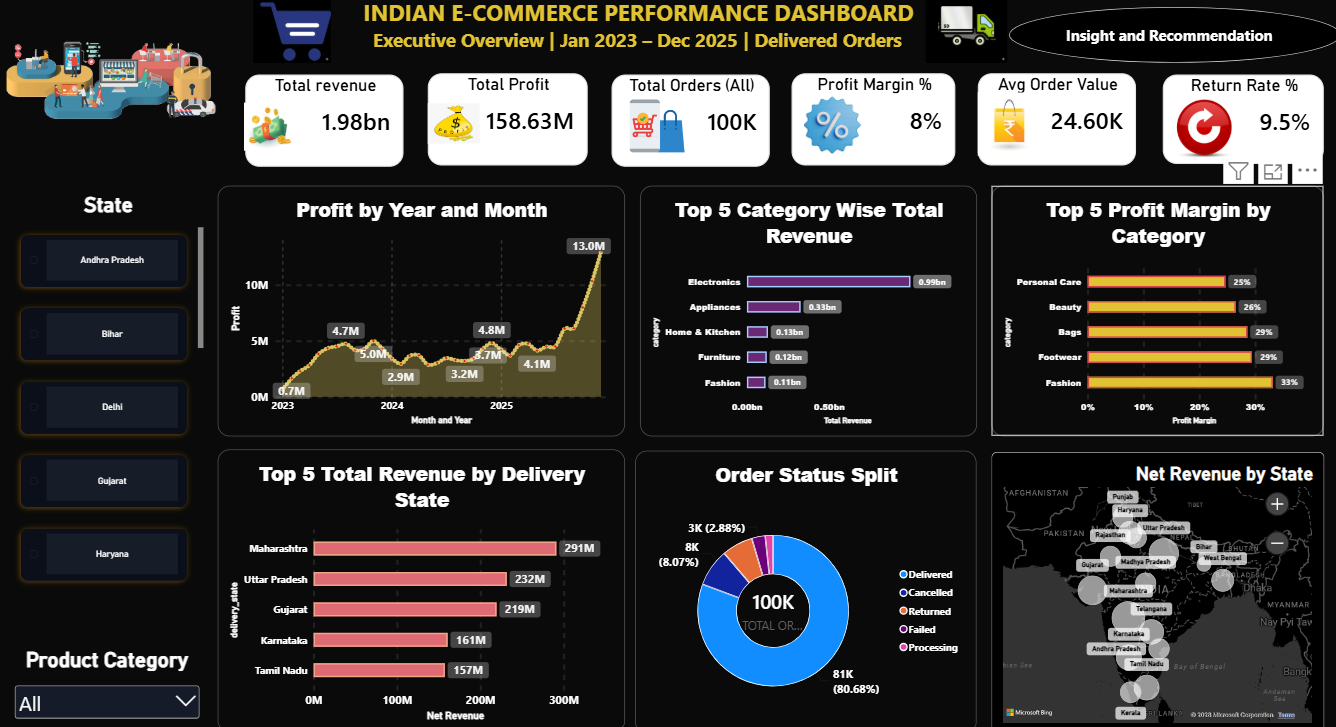

Layout of this report page (visuals, bound fields, positions):
{"tool":"powerbi","page":{"name":"Executive Overview","canvas":[1920,1080],"ordinal":0},"visuals":[{"type":"cardVisual","title":"Total revenue ","fields":{"Data":["order_items_cleaned.Net Revenue"]},"box":[352,111.1,226.4,131.7],"z":0},{"type":"cardVisual","title":"Total Profit","fields":{"Data":["order_items_cleaned.Total Profit Delivered"]},"box":[613.4,109.1,228.5,131.7],"z":1000},{"type":"cardVisual","title":"Total Orders (All)","fields":{"Data":["order_items_cleaned.order count"]},"box":[876.8,111.1,226.4,131.7],"z":2000},{"type":"cardVisual","title":"Profit Margin %","fields":{"Data":["order_items_cleaned.profit margin"]},"box":[1134.1,109.1,234.6,131.7],"z":3000},{"type":"cardVisual","title":"Avg Order Value","fields":{"Data":["order_items_cleaned.AOV"]},"box":[1399.7,109.1,226.4,131.7],"z":4000},{"type":"cardVisual","title":"Return Rate %","fields":{"Data":["returns_cleaned.return rate"]},"box":[1665.2,111.1,230.5,127.6],"z":5000},{"type":"advancedSlicerVisual","title":"State","fields":{"Values":["orders_cleaned.delivery_state"]},"box":[19.2,279.5,273.8,570.2],"z":7000},{"type":"slicer","title":"Product Category","fields":{"Values":["products_cleaned.category"]},"box":[18.1,930.2,273.8,125.6],"z":8000},{"type":"areaChart","title":"Profit by Year and Month","fields":{"Category":["orders_cleaned.order_date.Variation.Date Hierarchy.Year","orders_cleaned.order_date.Variation.Date Hierarchy.Month"],"Y":["order_items_cleaned.Total Profit Delivered"]},"box":[312.9,269.6,582.5,358.1],"z":9000},{"type":"clusteredBarChart","title":"Top 5 Category Wise Total Revenue","fields":{"Category":["products_cleaned.category"],"Y":["order_items_cleaned.Delivered Item Revenue"]},"box":[918,269.6,481.6,358.1],"z":10000},{"type":"clusteredBarChart","title":"Top 5 Profit Margin by Category","fields":{"Category":["products_cleaned.category"],"Y":["order_items_cleaned.profit margin"]},"box":[1420.2,269.6,475.5,358.1],"z":11000},{"type":"clusteredBarChart","title":"Top 5 Total Revenue by Delivery State","fields":{"Category":["orders_cleaned.delivery_state"],"Y":["order_items_cleaned.NET REVENUE"]},"box":[312.9,647.3,582.5,405.5],"z":12000},{"type":"donutChart","title":"Order Status Split","fields":{"Category":["orders_cleaned.order_status"],"Y":["customers_cleaned.TOTAL ORDER"]},"box":[910.1,649.1,487.8,405.5],"z":13000},{"type":"image","box":[351.1,143,68.8,85.1],"z":14000},{"type":"image","box":[613.4,137.9,74.1,86.4],"z":15000},{"type":"image","box":[895.4,142,90.6,86.4],"z":16000},{"type":"image","box":[1134.1,125.6,117.3,115.3],"z":17000},{"type":"image","box":[1399.7,133.8,90.6,94.7],"z":18000},{"type":"image","box":[1666.7,143,115.3,88.5],"z":19000},{"type":"map","title":"Net Revenue by State","fields":{"Category":["orders_cleaned.delivery_state"],"Size":["order_items_cleaned.NET REVENUE"]},"box":[1419.7,650.8,475.6,404.1],"z":20000},{"type":"textbox","box":[476.8,0,853.7,94.2],"z":21000},{"type":"image","box":[0,0,313.6,238.9],"z":21001},{"type":"image","box":[360.3,0,116.4,94.2],"z":21009},{"type":"image","box":[1323.1,0,122,94.2],"z":21010},{"type":"actionButton","box":[1444.9,15.2,474.7,79.7],"z":21011}]}

Visuals, with their boxes on the page's 1920x1080 design canvas (x1, y1, x2, y2). These are canvas units, not pixel positions in the 1336x727 screenshot, which may show the page scaled, cropped or inside an application window:
"Total revenue " cardVisual: box=[352, 111, 578, 243]
"Total Profit" cardVisual: box=[613, 109, 842, 241]
"Total Orders (All)" cardVisual: box=[877, 111, 1103, 243]
"Profit Margin %" cardVisual: box=[1134, 109, 1369, 241]
"Avg Order Value" cardVisual: box=[1400, 109, 1626, 241]
"Return Rate %" cardVisual: box=[1665, 111, 1896, 239]
"State" advancedSlicerVisual: box=[19, 280, 293, 850]
"Product Category" slicer: box=[18, 930, 292, 1056]
"Profit by Year and Month" areaChart: box=[313, 270, 895, 628]
"Top 5 Category Wise Total Revenue" clusteredBarChart: box=[918, 270, 1400, 628]
"Top 5 Profit Margin by Category" clusteredBarChart: box=[1420, 270, 1896, 628]
"Top 5 Total Revenue by Delivery State" clusteredBarChart: box=[313, 647, 895, 1053]
"Order Status Split" donutChart: box=[910, 649, 1398, 1055]
image: box=[351, 143, 420, 228]
image: box=[613, 138, 688, 224]
image: box=[895, 142, 986, 228]
image: box=[1134, 126, 1251, 241]
image: box=[1400, 134, 1490, 228]
image: box=[1667, 143, 1782, 232]
"Net Revenue by State" map: box=[1420, 651, 1895, 1055]
textbox: box=[477, 0, 1330, 94]
image: box=[0, 0, 314, 239]
image: box=[360, 0, 477, 94]
image: box=[1323, 0, 1445, 94]
actionButton: box=[1445, 15, 1920, 95]
